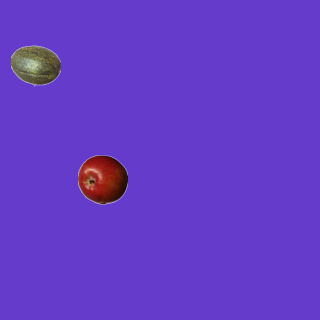Apple Braeburn: (77, 154, 127, 204)
Melon Piel de Sapo: (10, 40, 60, 90)
